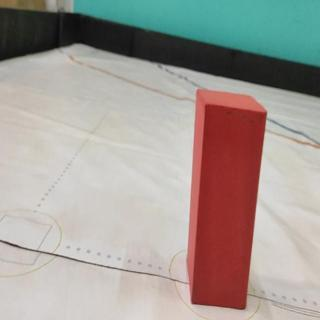redbox: (187, 88, 268, 308)
